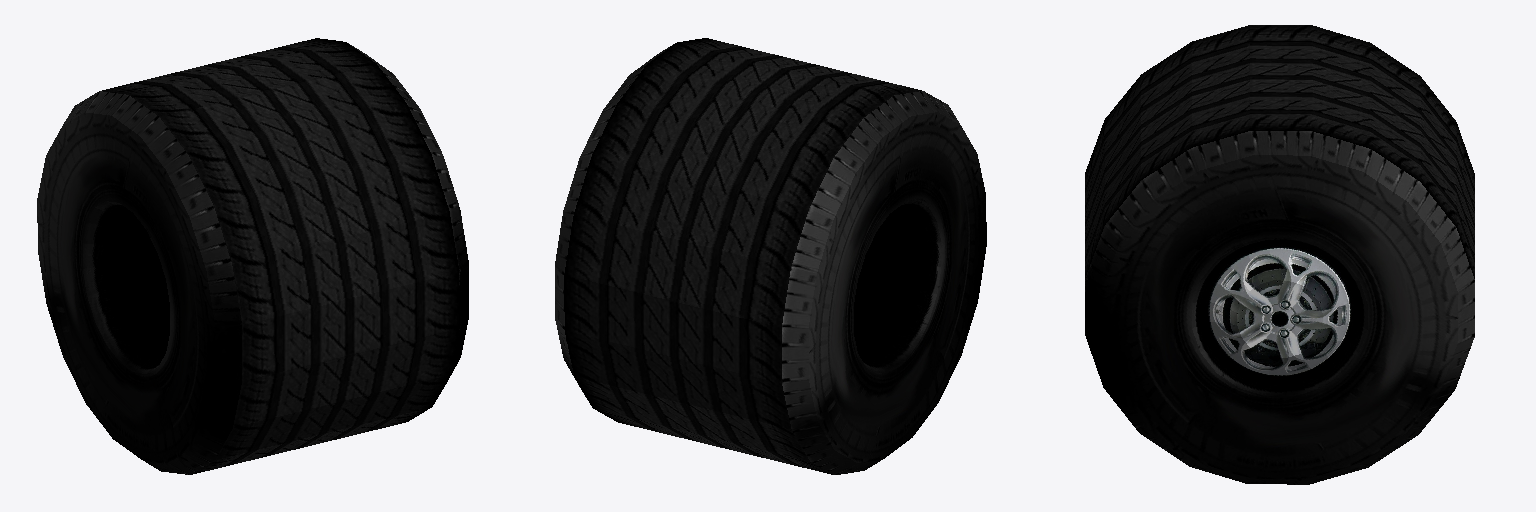
The picture shows the model from 3 angles: view 1: azimuth 30°, elevation 25°; view 2: azimuth 150°, elevation 25°; view 3: azimuth 270°, elevation 25°; orthographic projection.
Size of the model in its own units: 0.745 by 0.9721 by 0.9721.
1 materials, 1 textured.